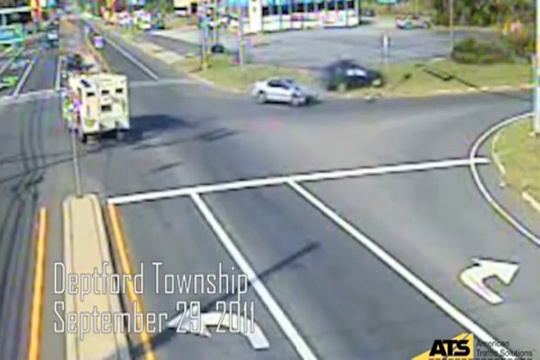car: (65, 63, 127, 144), (251, 77, 317, 110), (319, 62, 375, 90), (398, 16, 429, 31)
